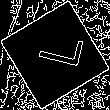L_W: (27, 34, 83, 76)
